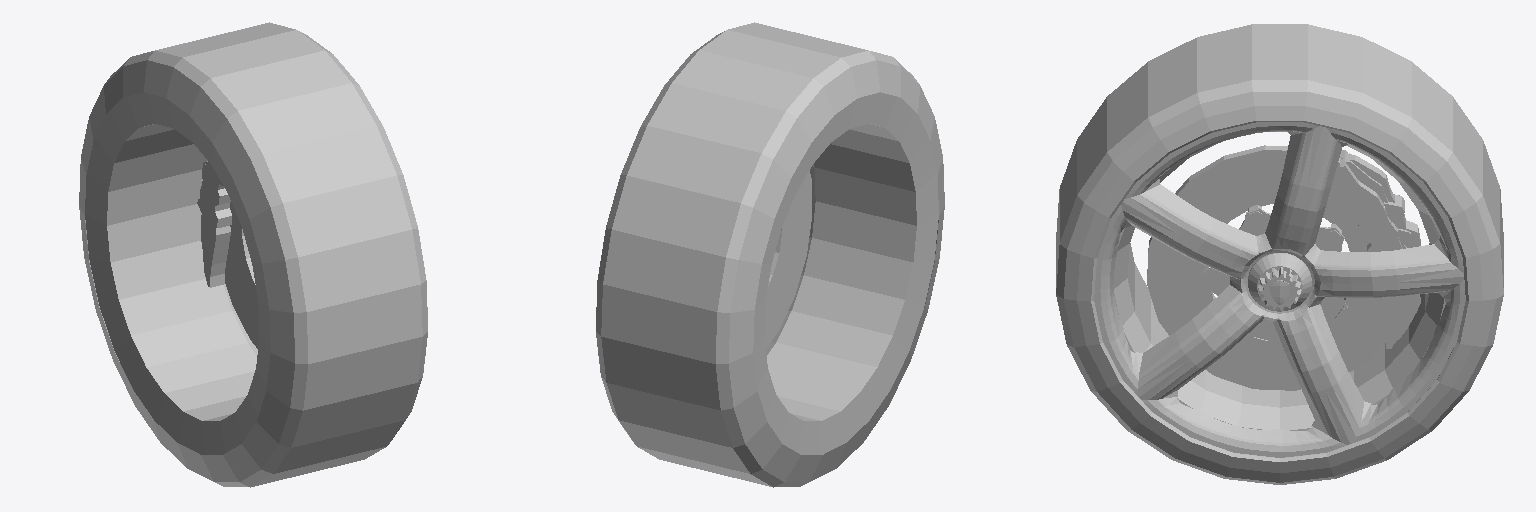
File: Car_Wheel.obj
3 renders of one model, left to right at view 1: azimuth 30°, elevation 25°; view 2: azimuth 150°, elevation 25°; view 3: azimuth 270°, elevation 25°, orthographic.
Visible parts, largest first — view 1: FL.001_Koenisegg_one.001; view 2: FL.001_Koenisegg_one.001; view 3: FL.001_Koenisegg_one.001.
Part boxes in pixels (left/top/right/bottom): FL.001_Koenisegg_one.001: left=79, top=22, right=427, bottom=487; FL.001_Koenisegg_one.001: left=596, top=22, right=944, bottom=487; FL.001_Koenisegg_one.001: left=1056, top=24, right=1503, bottom=484.
Bounding box in the file's own units: 2.24 × 5.54 × 5.55.